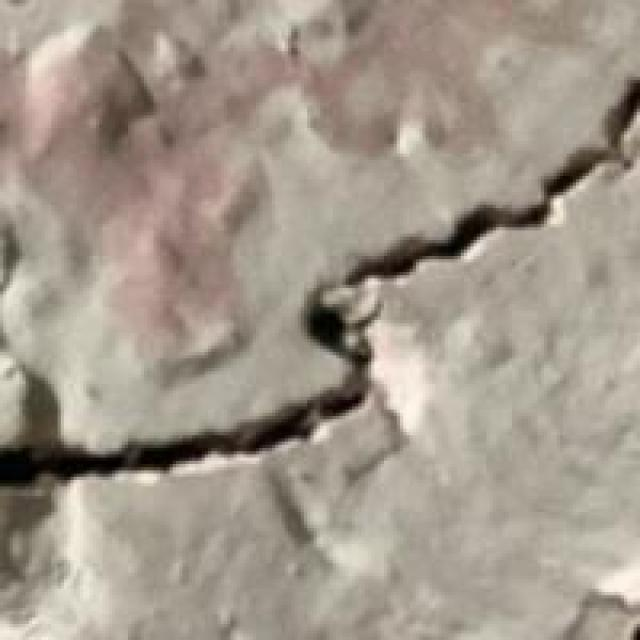Crack: (0, 74, 637, 519)
